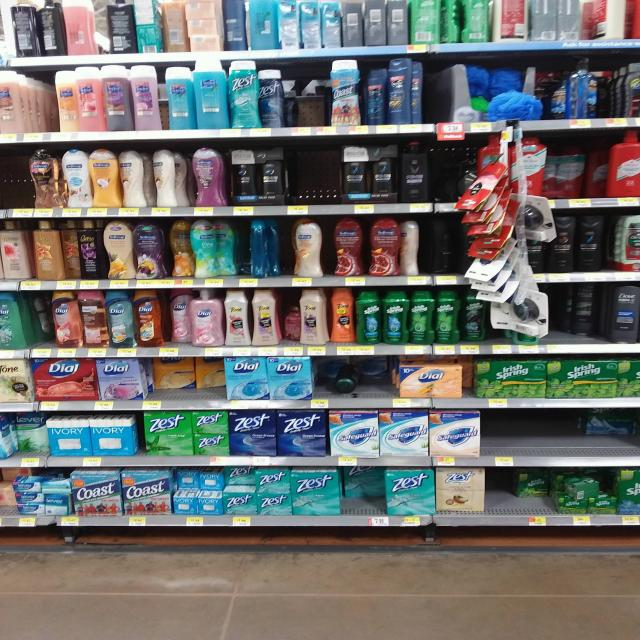void: (482, 410, 532, 468), (533, 410, 584, 466), (291, 61, 323, 136), (312, 142, 337, 216), (433, 141, 459, 212), (0, 147, 26, 217), (289, 140, 311, 216)
